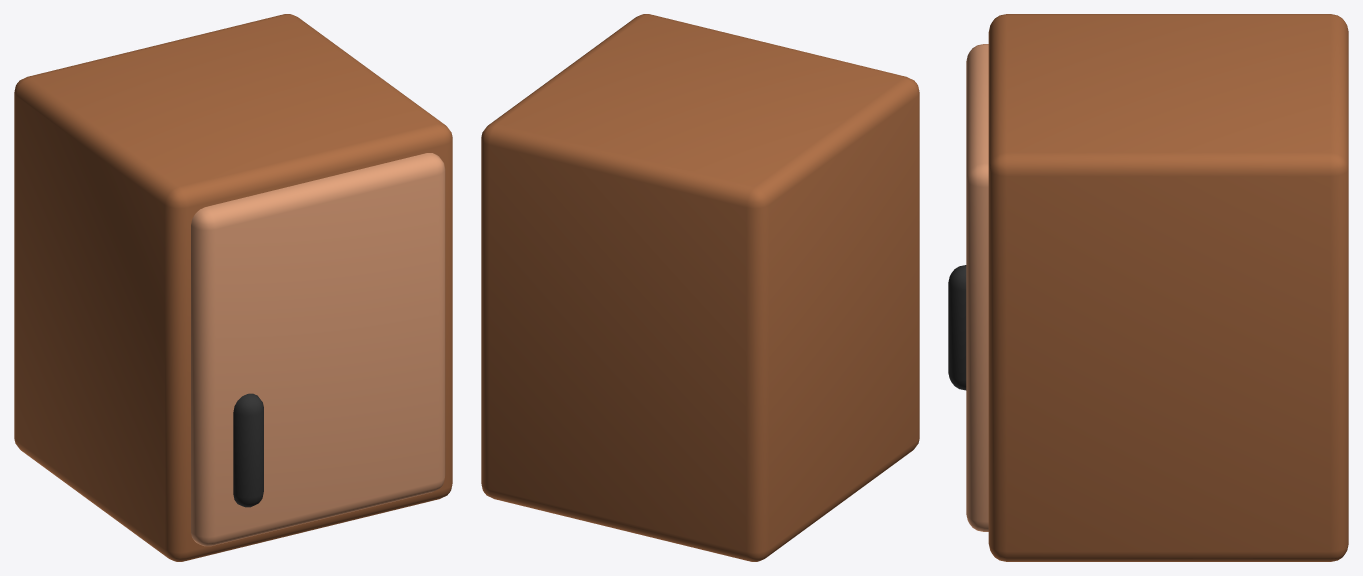
The model's file is tumba_verh_40x40x50_2.glb.
3 renders of one model, left to right at view 1: azimuth 30°, elevation 25°; view 2: azimuth 150°, elevation 25°; view 3: azimuth 270°, elevation 25°, orthographic. The views are drawn at different scales.
Visible parts, largest first — view 1: Cube.046; view 2: Cube.046; view 3: Cube.046.
Part boxes in pixels (<box>): Cube.046: <box>14,14,452,561</box>; Cube.046: <box>481,14,919,561</box>; Cube.046: <box>948,14,1348,561</box>.
Bounding box in the file's own units: 0.4 × 0.5 × 0.445.
